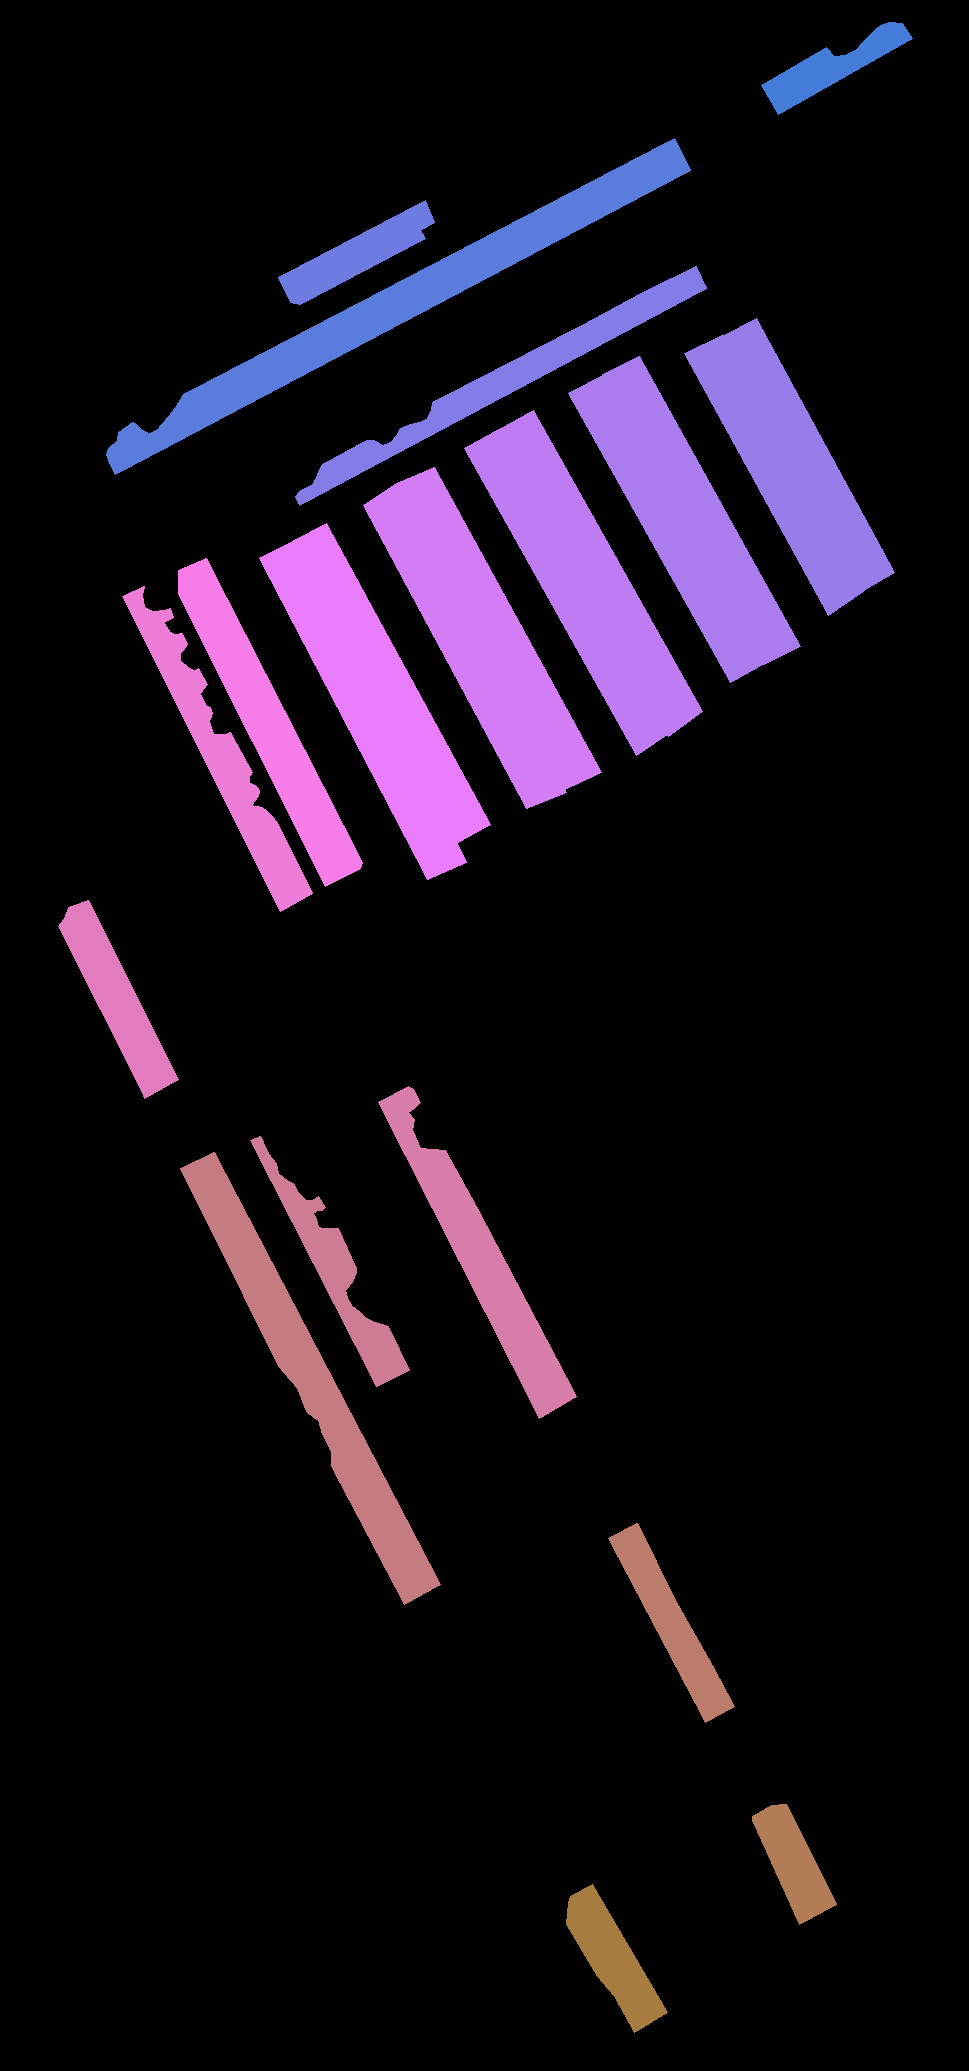parkingspot: (106, 137, 690, 474), (180, 1152, 440, 1603), (294, 265, 706, 505), (259, 540, 466, 880), (463, 428, 671, 755), (496, 409, 702, 736), (393, 468, 601, 791), (363, 483, 566, 808), (378, 1086, 576, 1419), (292, 523, 490, 844), (121, 586, 312, 911), (602, 357, 800, 664), (568, 374, 766, 682), (178, 557, 362, 886), (684, 335, 863, 615), (719, 318, 894, 593), (250, 1136, 409, 1386), (609, 1523, 734, 1722), (58, 899, 178, 1098), (279, 199, 434, 304), (566, 1883, 667, 2031), (760, 22, 912, 114), (752, 1804, 836, 1924)
